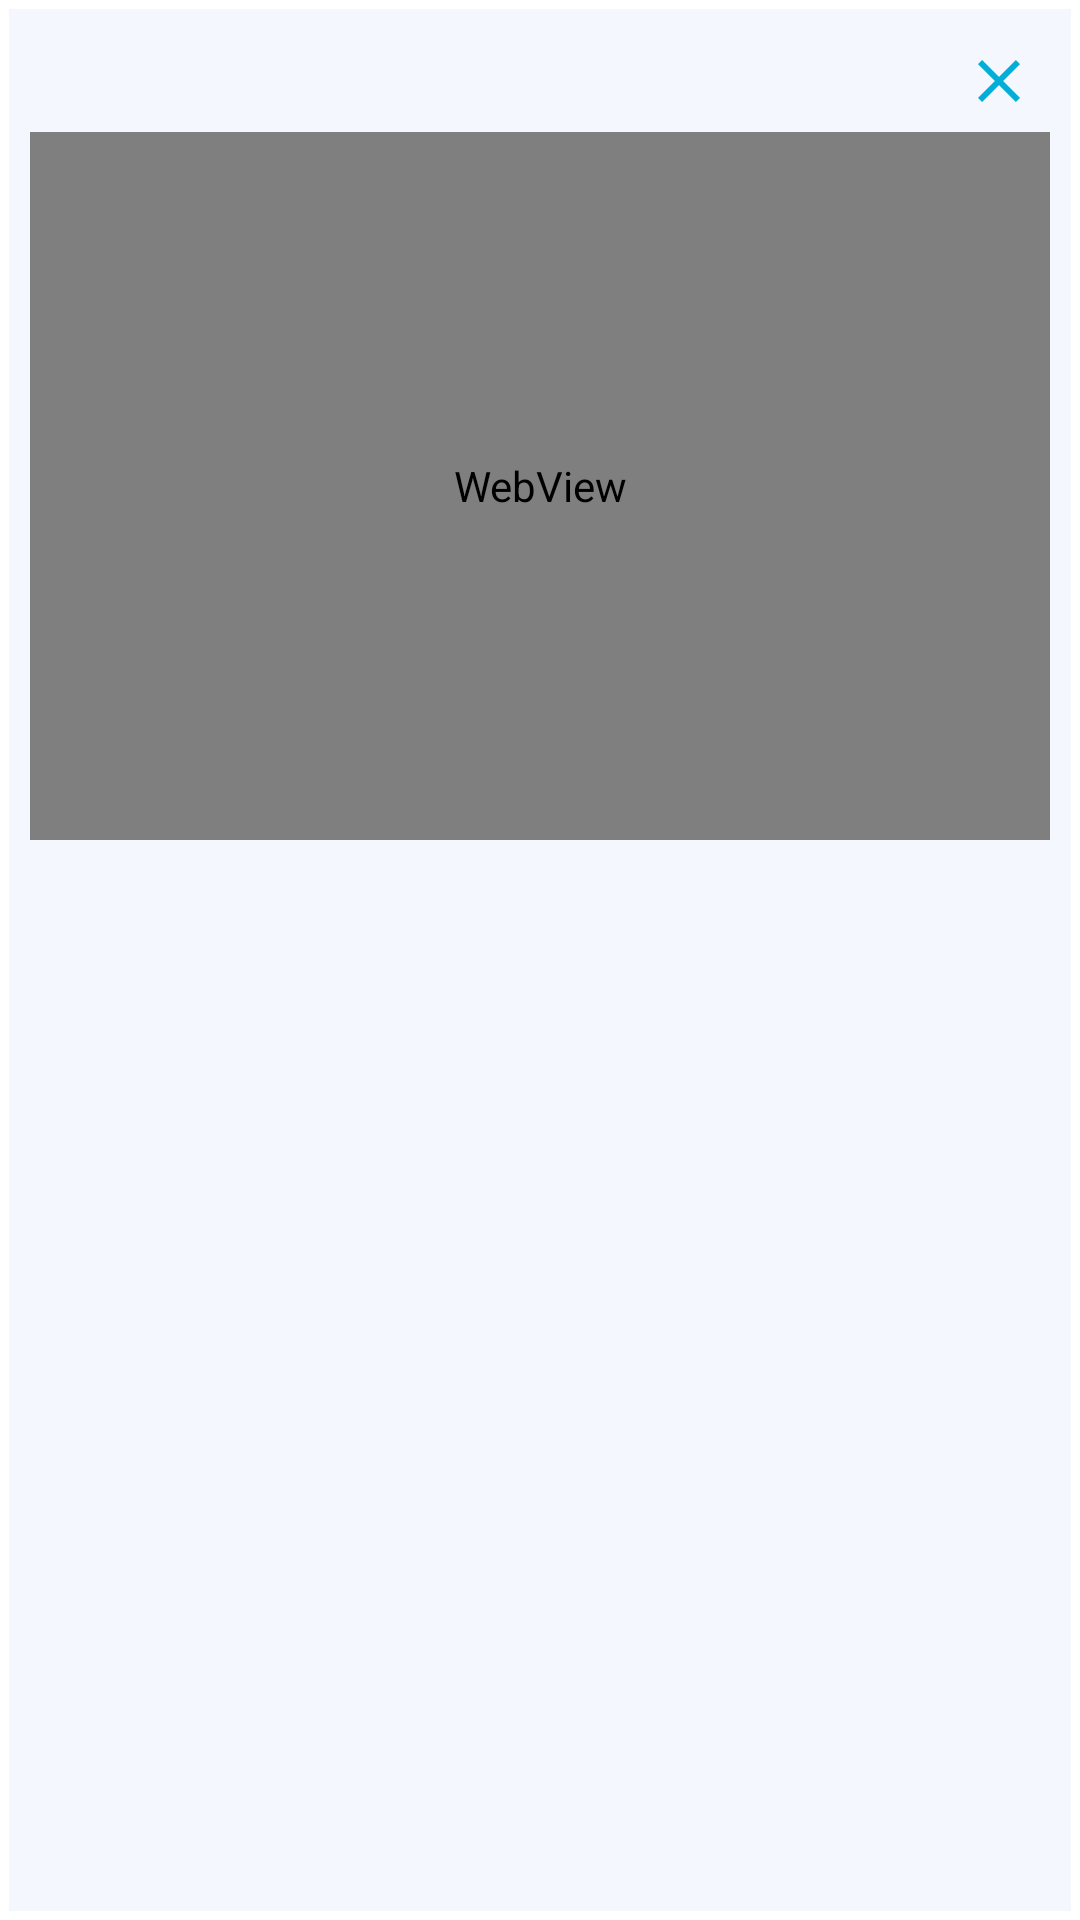

Where icons sit on this 1080w x 1920h app screen, as (x1=x1, y1=y1, x2=x2, y2=y2):
clear: (x1=978, y1=60, x2=1020, y2=102)
